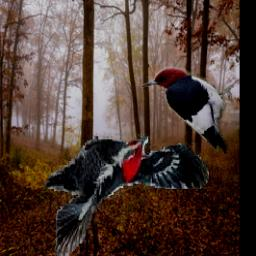Woodpecker: (45, 130, 210, 256), (136, 67, 234, 155)
